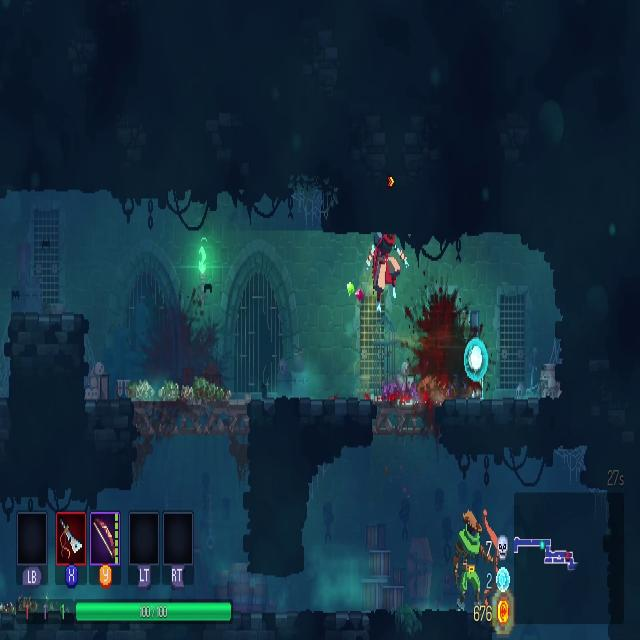agents: (362, 230, 409, 323)
enemy_archer: (458, 502, 511, 609)
wood_floor: (132, 397, 252, 439), (368, 396, 439, 436)
